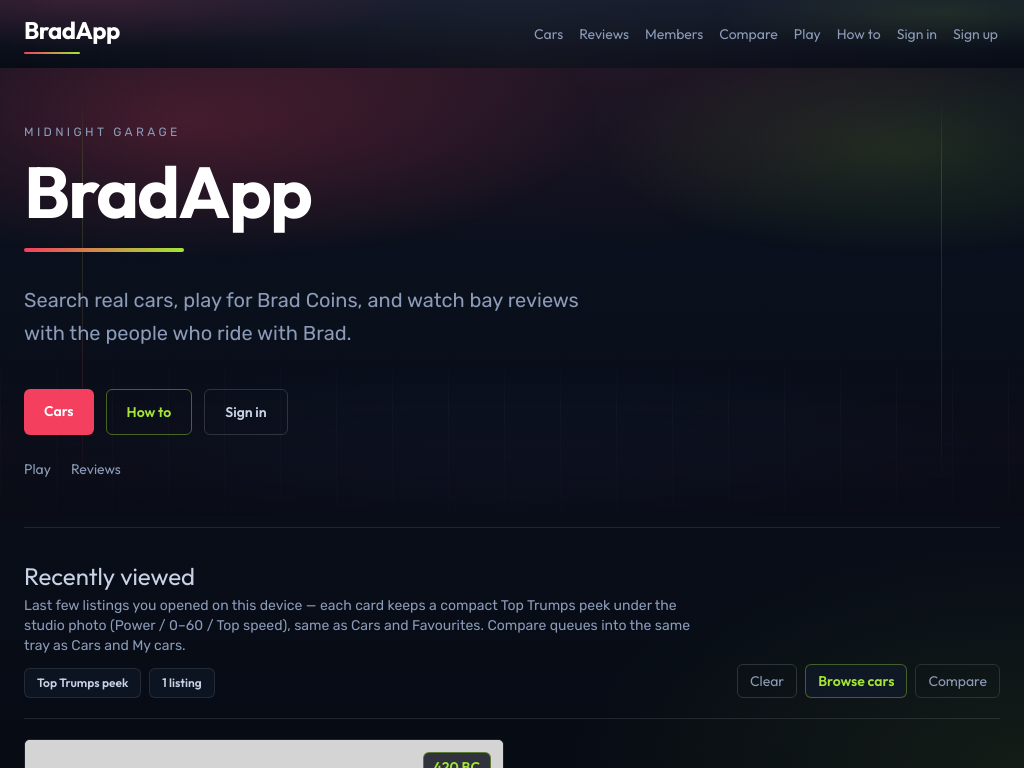
Test: HomePage › clears recently viewed from home after confirm and shows the empty bay
Click the button "Clear" at (767, 681), box [737,664,797,698]
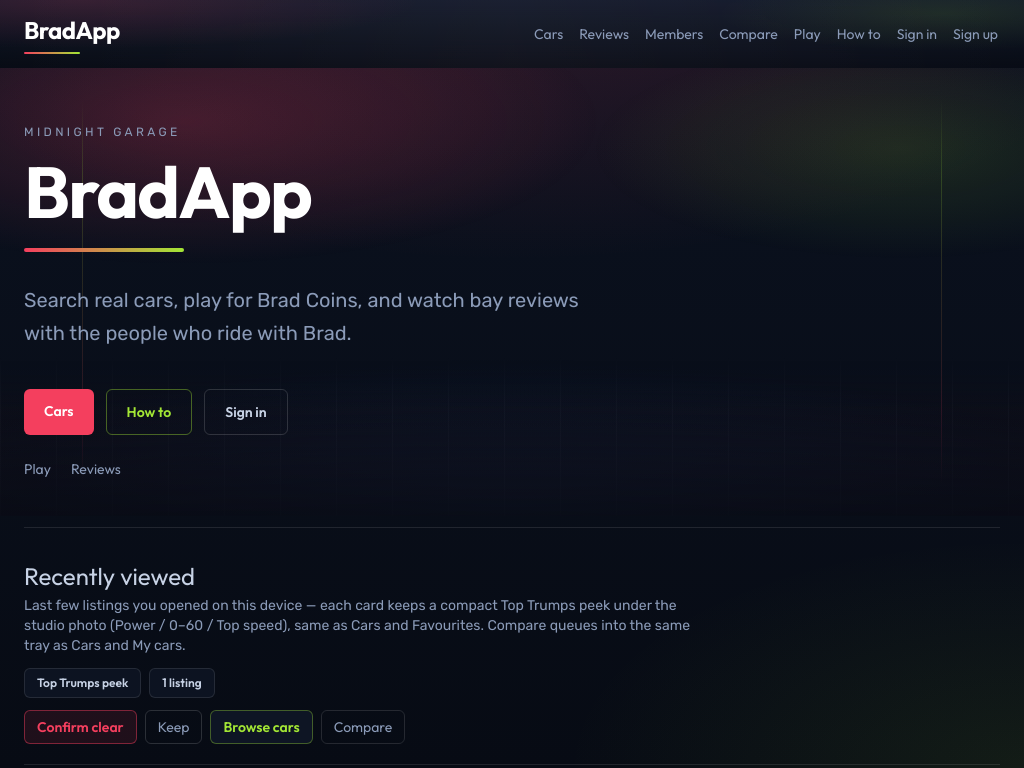
Expected: the button "Confirm clear" is shown, [24,710,137,744]
Expected: the button "Keep" is shown
Click the button "Keep" at (174, 727), box [145,710,202,744]
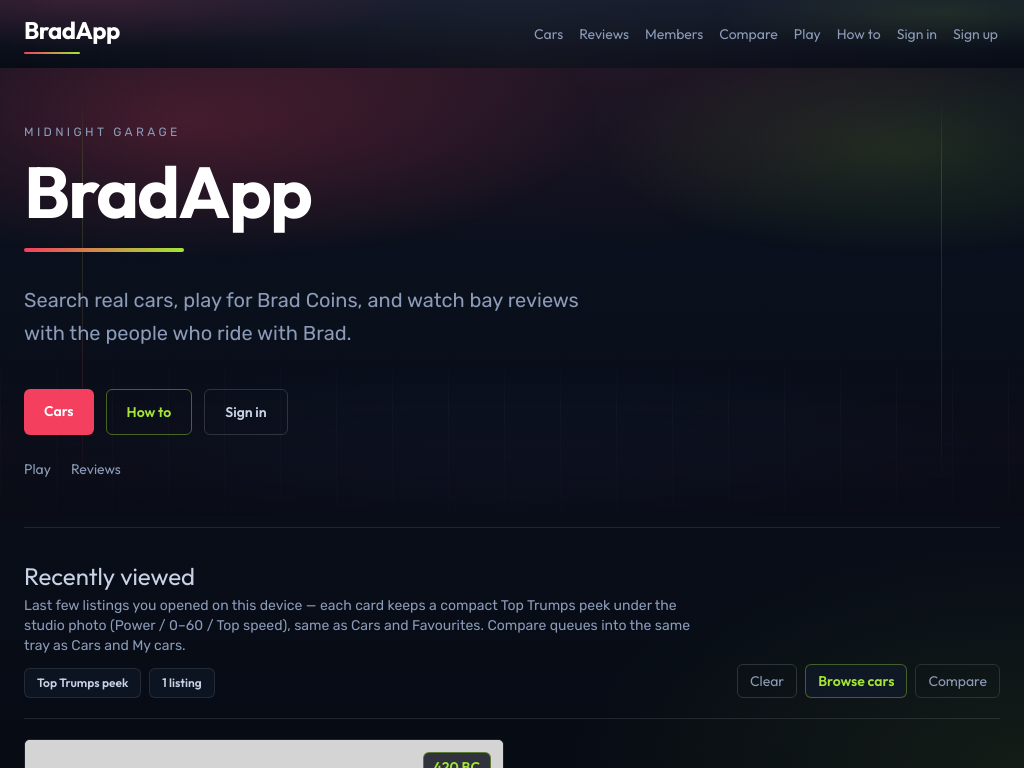
Click the button "Clear" at (767, 681), box [737,664,797,698]
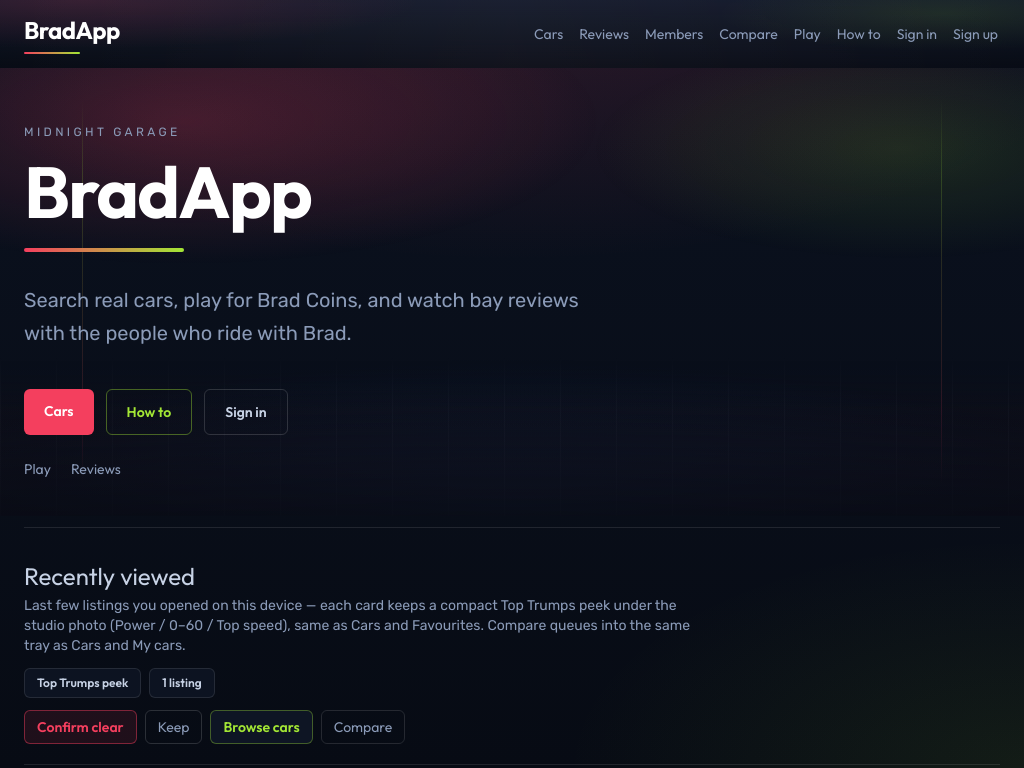
Click the button "Confirm clear" at (80, 727), box [24,710,137,744]
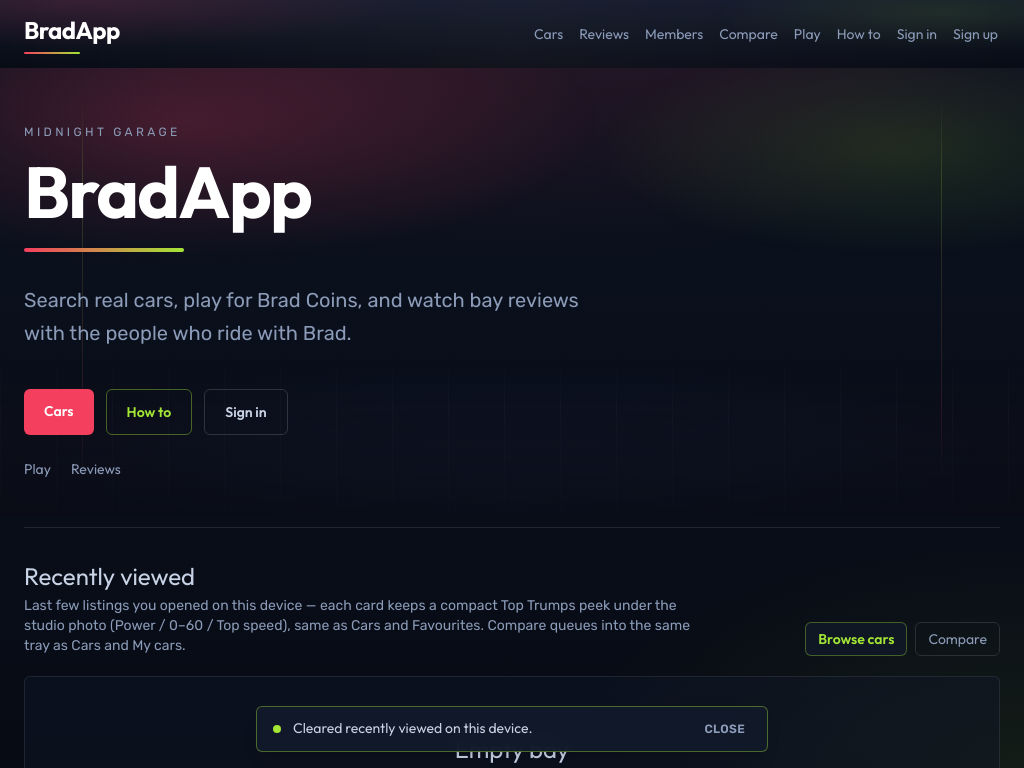
Expected: the text "Empty bay" is shown, [455,734,569,764]
Expected: the button "Confirm clear" is gone
Expected: the text "Cleared recently viewed on this device." is shown, [293,719,532,737]
